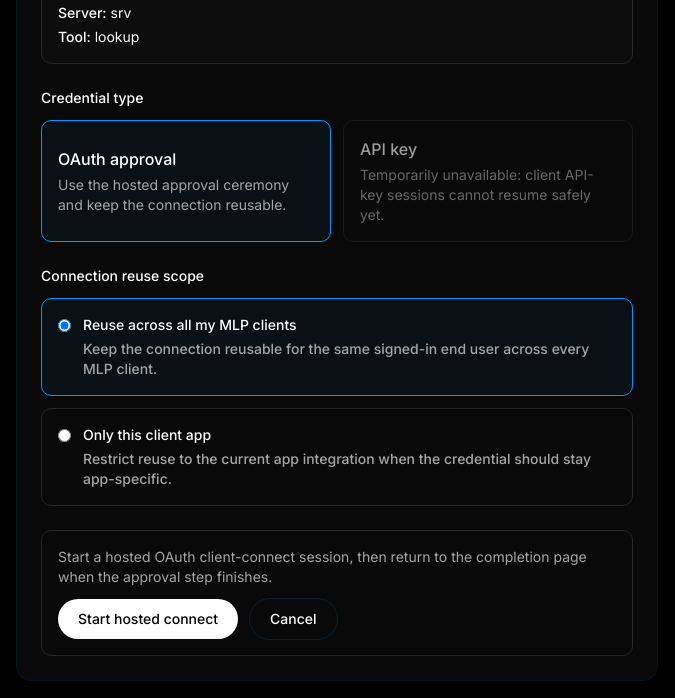
Scenario: HostedConnect page › shows a blocked message when client OAuth has no start_url
(page scrolled)
What coordinates should you click on to do the following:
click the button "Start hosted connect"
I would click on:
 (148, 619)
Its box is [58,599,238,639].
(page scrolled)
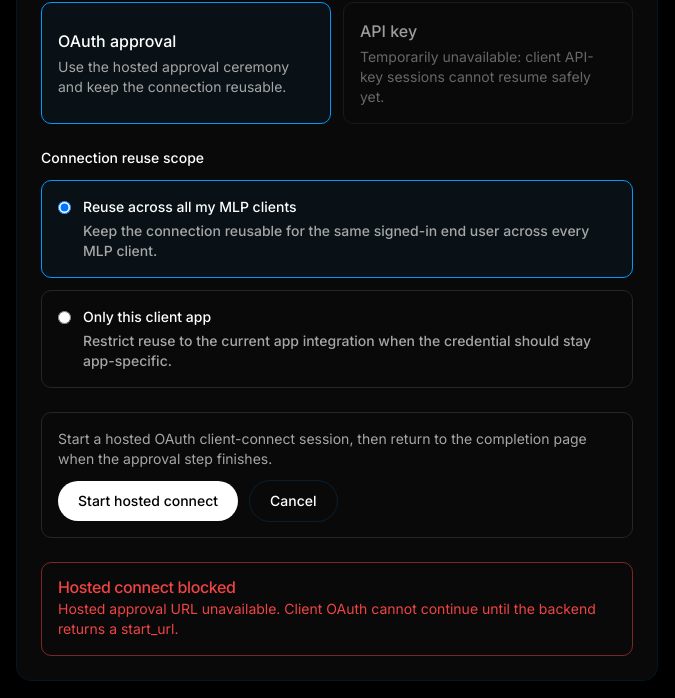
Now the text "Hosted approval URL unavailable. Client OAuth cannot continue until the backend returns a start_url." is shown, box [58,600,596,637]
